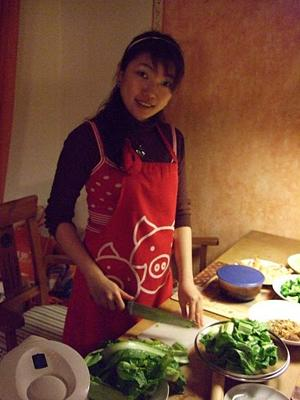person: (45, 30, 205, 359)
